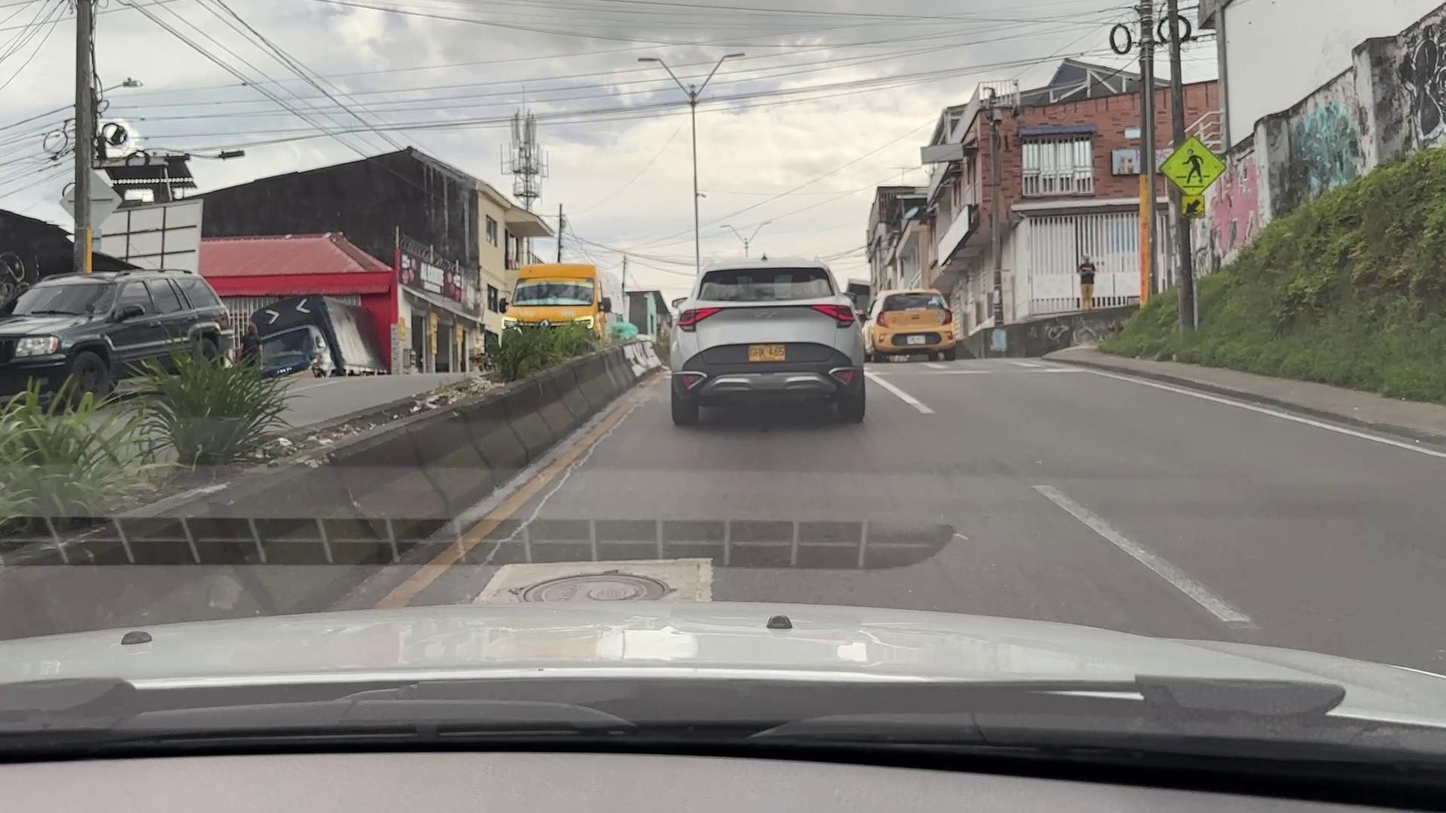registro: (517, 572, 670, 603)
